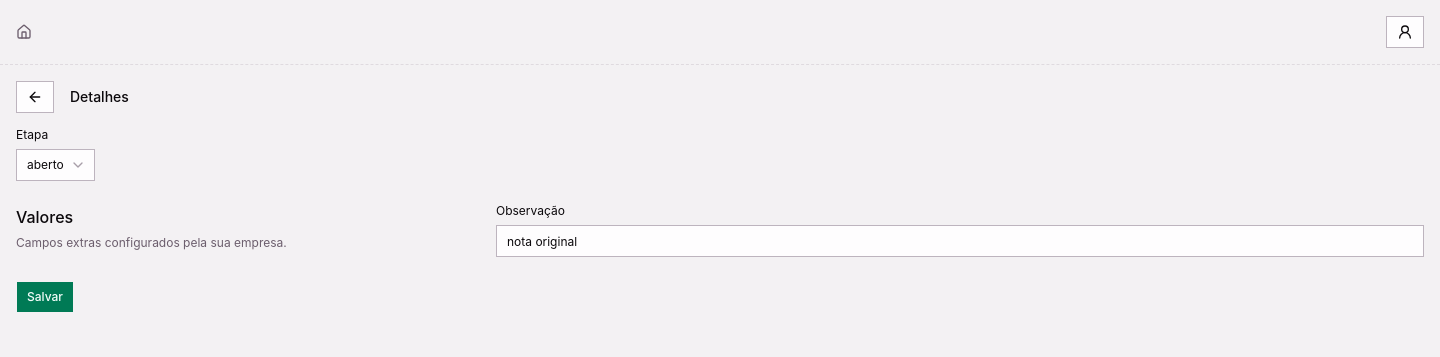
Scenario: ProcessDetailsPage — stage control (T27, WEB-08 + WEB-17) › WEB-08 AC4/WEB-17: a server rejection keeps the previously shown stage — no optimistic update
Click the dropdown.
click(55, 165)  # box [16, 149, 95, 181]
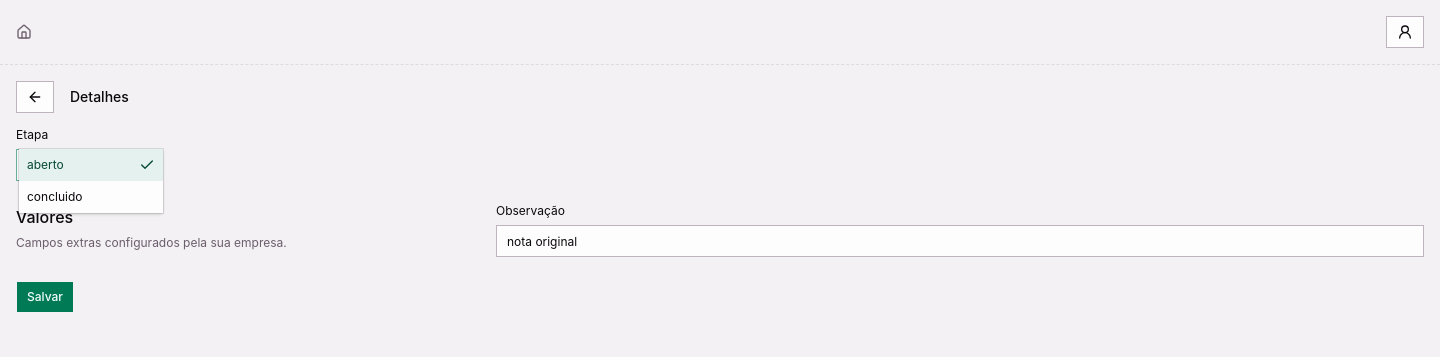
Click the option "concluido".
click(55, 196)  # box [27, 189, 82, 204]
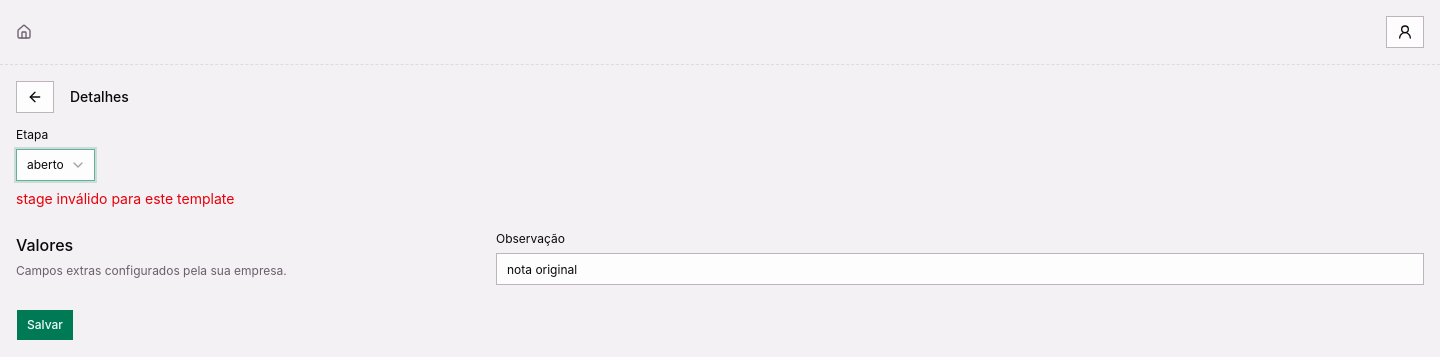
Expected: the dropdown shows "aberto", [16, 149, 95, 181]
Now the message reads "stage inválido para este template", box [16, 190, 234, 207]
